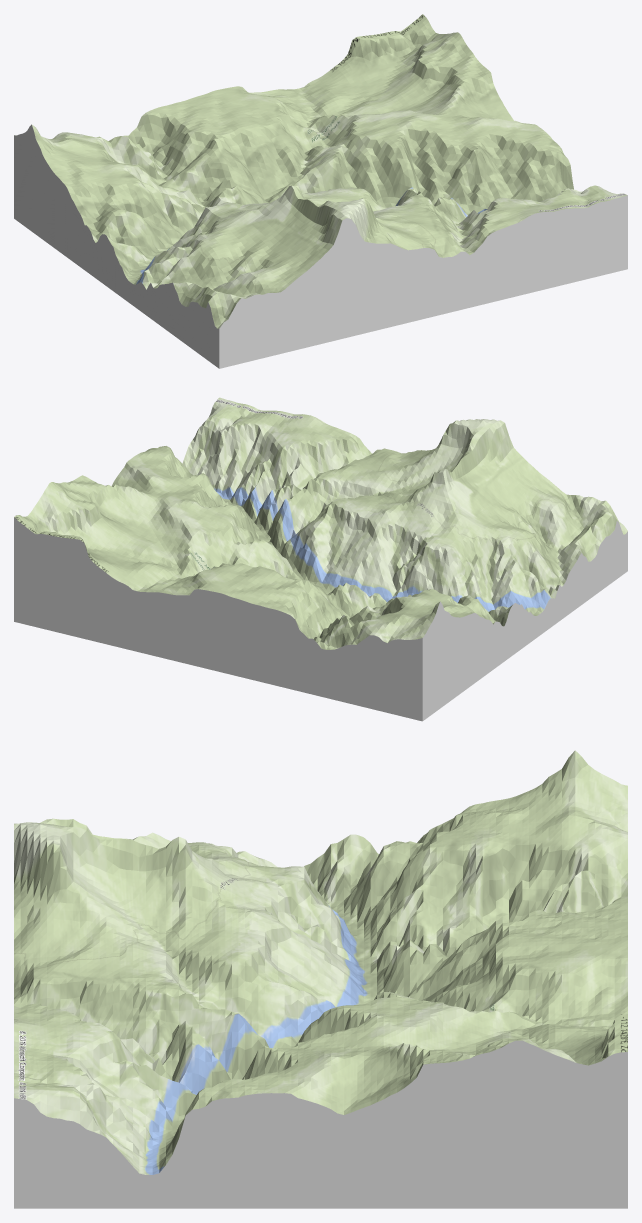
3 renders of one model, top to bottom at view 1: azimuth 30°, elevation 25°; view 2: azimuth 150°, elevation 25°; view 3: azimuth 270°, elevation 25°, orthographic. The views are drawn at different scales.
Size of the model in its own units: 0.1608 by 0.0467 by 0.14.
Materials: 2 (1 with a texture image).
